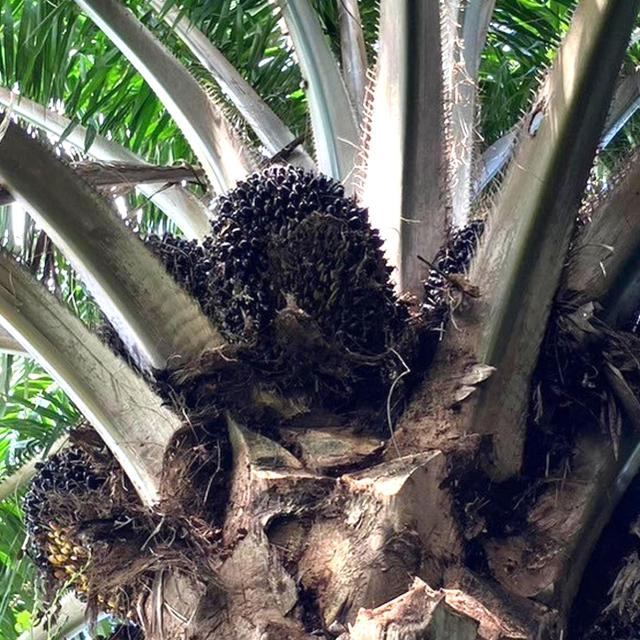unripe: (213, 176, 386, 392)
